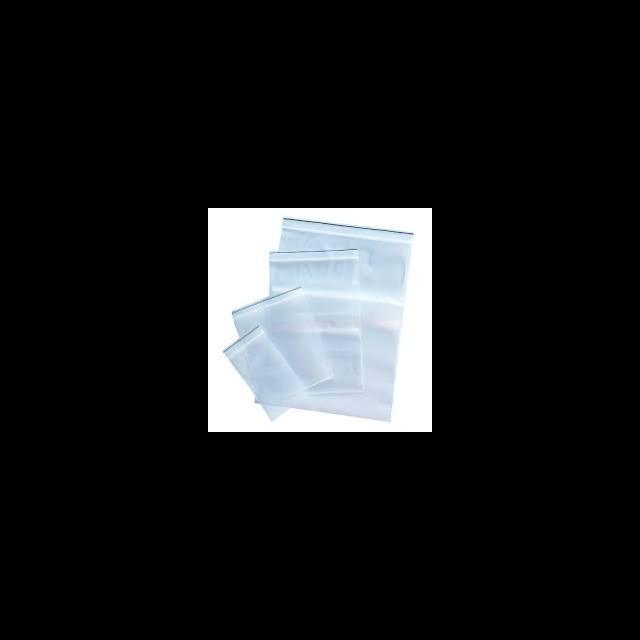plastic: (222, 217, 414, 429), (224, 324, 308, 421)
